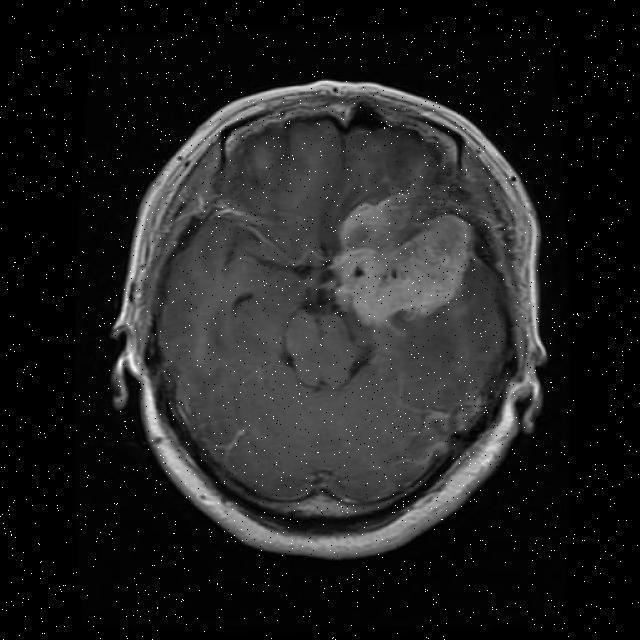Meningioma: (330, 191, 473, 327)
